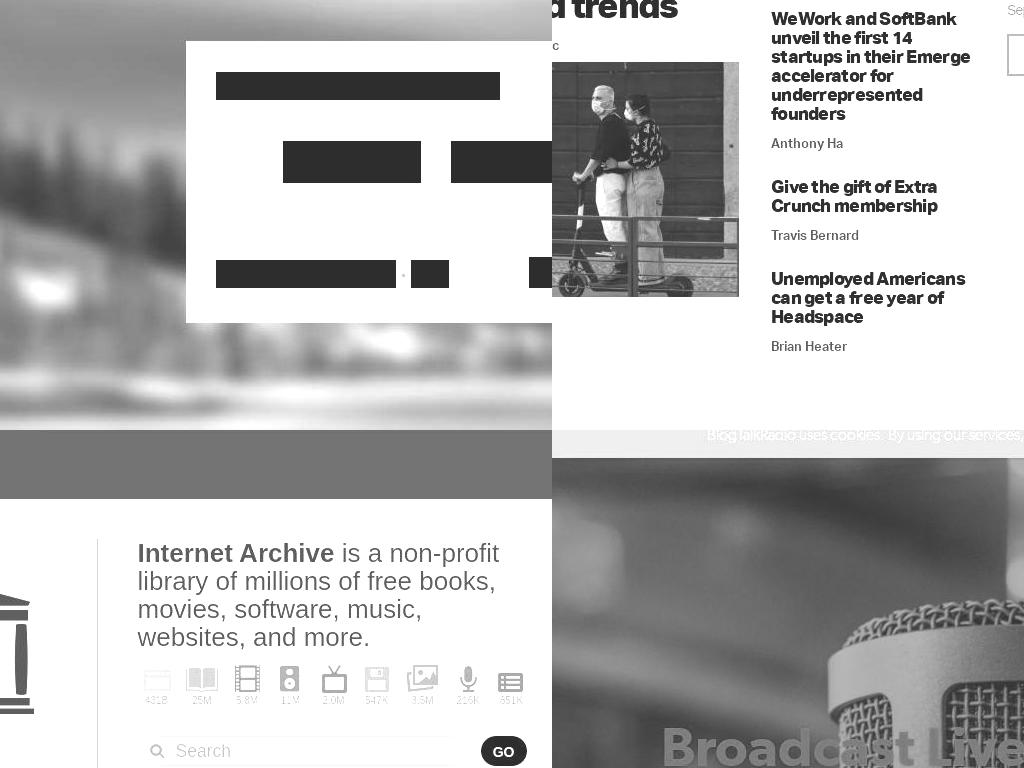button: (283, 141, 421, 183), (451, 141, 552, 183), (480, 736, 527, 766), (401, 660, 443, 690), (181, 660, 222, 690), (138, 660, 175, 690), (229, 660, 266, 690), (272, 660, 309, 690), (315, 660, 352, 690), (358, 660, 395, 690), (450, 660, 487, 690), (493, 660, 530, 690)
field: (144, 736, 467, 766)
heading: (770, 7, 970, 124), (660, 713, 1024, 768), (770, 267, 965, 327), (552, 389, 977, 410), (770, 175, 938, 216)
image: (552, 430, 1024, 768), (552, 62, 739, 297), (216, 72, 500, 100)
link: (216, 260, 396, 288), (770, 227, 859, 243), (770, 338, 847, 354), (770, 135, 843, 151), (411, 260, 449, 288)
text: (137, 539, 500, 768), (0, 539, 97, 759), (137, 538, 335, 568), (707, 430, 1024, 444), (404, 664, 440, 695), (184, 664, 219, 695), (141, 664, 172, 695), (232, 664, 263, 695), (275, 664, 306, 695), (318, 664, 349, 695), (361, 664, 392, 695), (453, 664, 484, 695), (496, 664, 527, 695), (144, 695, 169, 706), (499, 695, 524, 706), (235, 695, 259, 706), (365, 695, 389, 706), (456, 695, 480, 706), (322, 695, 345, 706), (411, 695, 434, 706), (192, 695, 212, 706), (280, 695, 300, 706)
